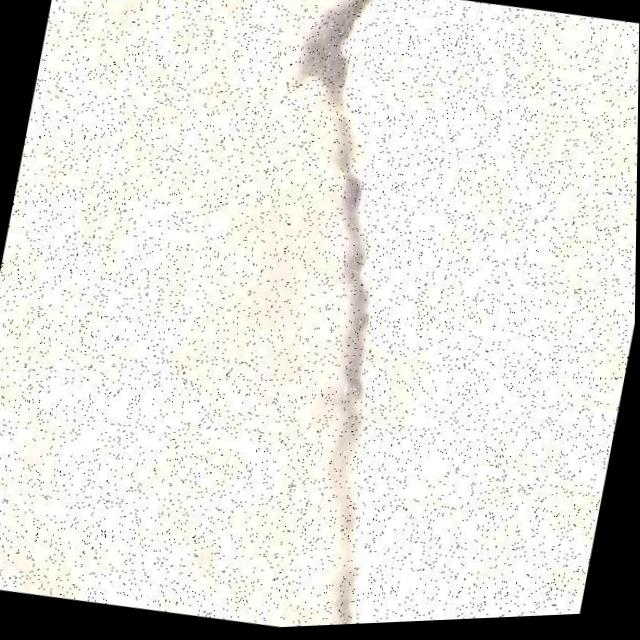Crack: (191, 0, 481, 633)
